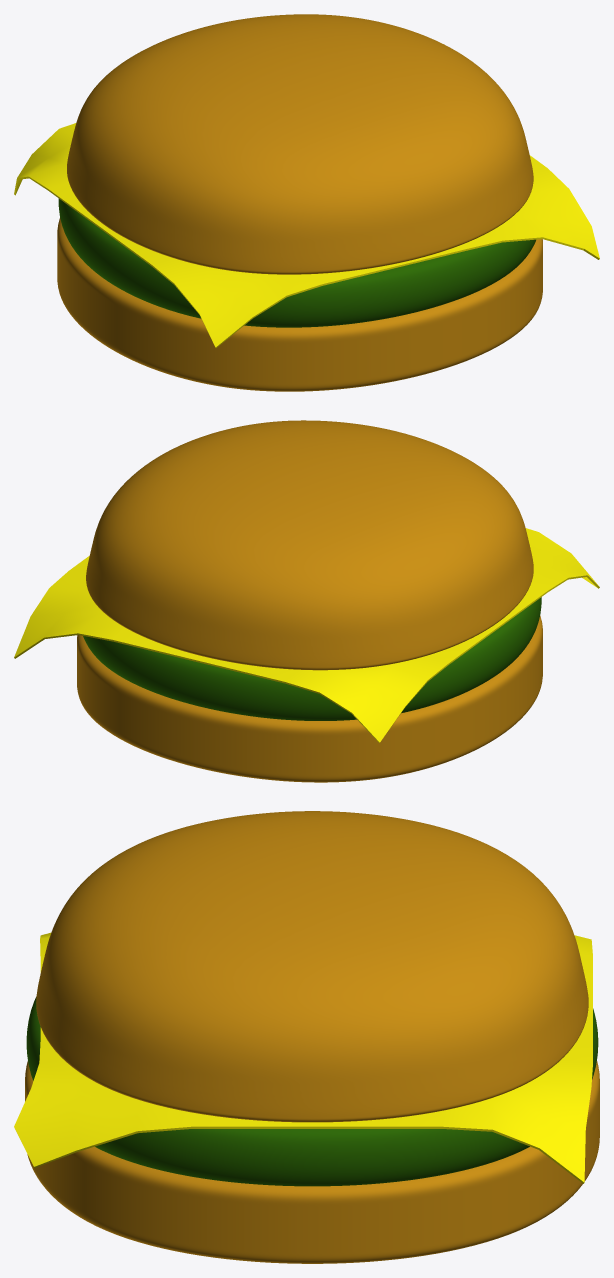
Rendered from hamburger.glb.
3 views of the same model, one above another, from view 1: azimuth 30°, elevation 25°; view 2: azimuth 150°, elevation 25°; view 3: azimuth 270°, elevation 25° (orthographic). The views are drawn at different scales.
Visible parts, largest first — view 1: Cube, Cube.001, Cube.002, Plane; view 2: Cube, Cube.001, Plane, Cube.002; view 3: Cube, Cube.001, Plane, Cube.002.
Boxes of the visible parts, x1,y1,x2,y2 form: Cube: (67,14,533,274); Cube.001: (57,217,542,391); Cube.002: (58,198,535,327); Plane: (14,123,599,347); Cube: (86,420,533,670); Cube.001: (77,615,542,782); Plane: (14,528,599,742); Cube.002: (83,597,541,720); Cube: (36,811,588,1122); Cube.001: (25,1061,599,1263); Plane: (14,932,592,1183); Cube.002: (26,997,598,1186).
Bounding box in the file's own units: 9.24 × 5.03 × 9.42.
